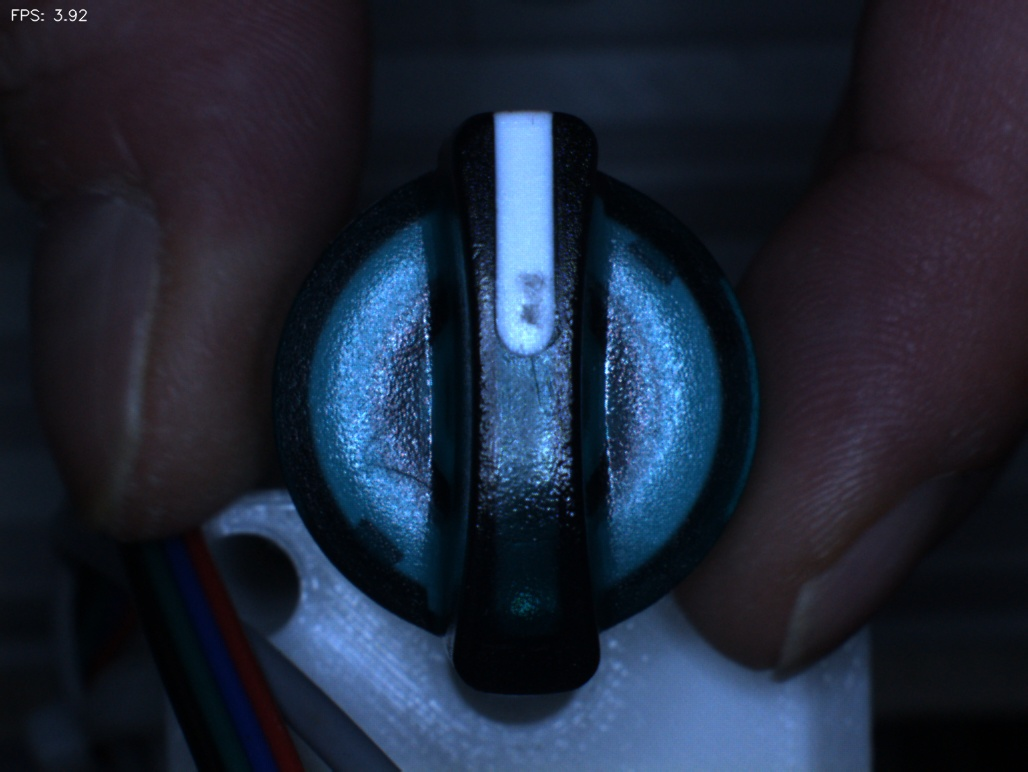PointNoir: (483, 244, 583, 359)
